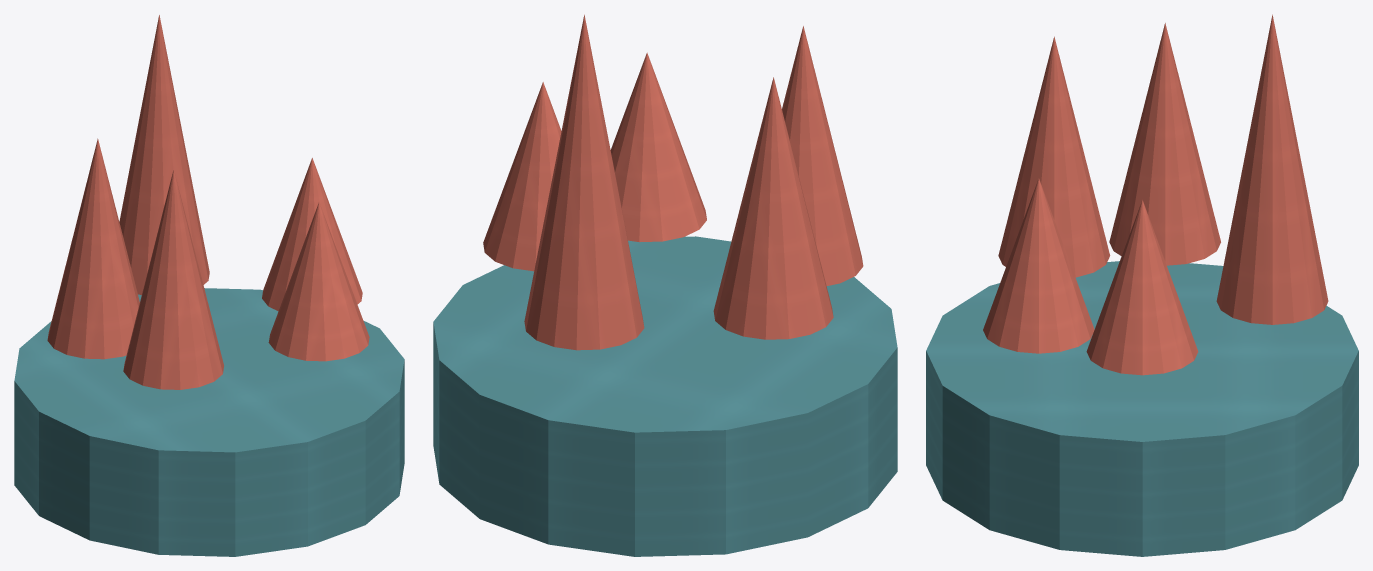
The model's file is atlas100-s071-a12.glb.
3 renders of one model, left to right at view 1: azimuth 30°, elevation 25°; view 2: azimuth 150°, elevation 25°; view 3: azimuth 270°, elevation 25°, orthographic. The views are drawn at different scales.
Visible parts, largest first — view 1: atlas100-s071-a12:part-000, atlas100-s071-a12:part-002, atlas100-s071-a12:part-005, atlas100-s071-a12:part-003, atlas100-s071-a12:part-004, atlas100-s071-a12:part-001; view 2: atlas100-s071-a12:part-000, atlas100-s071-a12:part-003, atlas100-s071-a12:part-005, atlas100-s071-a12:part-004, atlas100-s071-a12:part-002, atlas100-s071-a12:part-001; view 3: atlas100-s071-a12:part-000, atlas100-s071-a12:part-003, atlas100-s071-a12:part-005, atlas100-s071-a12:part-002, atlas100-s071-a12:part-001, atlas100-s071-a12:part-004.
Part boxes in pixels (x1=…): atlas100-s071-a12:part-000: x1=14, y1=288, x2=404, y2=556; atlas100-s071-a12:part-002: x1=123, y1=169, x2=223, y2=389; atlas100-s071-a12:part-005: x1=47, y1=138, x2=139, y2=359; atlas100-s071-a12:part-003: x1=119, y1=15, x2=209, y2=294; atlas100-s071-a12:part-004: x1=268, y1=202, x2=369, y2=361; atlas100-s071-a12:part-001: x1=262, y1=158, x2=362, y2=311; atlas100-s071-a12:part-000: x1=433, y1=236, x2=897, y2=556; atlas100-s071-a12:part-003: x1=524, y1=14, x2=644, y2=350; atlas100-s071-a12:part-005: x1=713, y1=77, x2=833, y2=339; atlas100-s071-a12:part-004: x1=610, y1=52, x2=706, y2=242; atlas100-s071-a12:part-002: x1=782, y1=26, x2=863, y2=285; atlas100-s071-a12:part-001: x1=483, y1=82, x2=561, y2=271; atlas100-s071-a12:part-000: x1=926, y1=261, x2=1358, y2=556; atlas100-s071-a12:part-003: x1=1216, y1=14, x2=1328, y2=324; atlas100-s071-a12:part-005: x1=1109, y1=23, x2=1220, y2=265; atlas100-s071-a12:part-002: x1=998, y1=36, x2=1110, y2=277; atlas100-s071-a12:part-001: x1=1086, y1=200, x2=1198, y2=375; atlas100-s071-a12:part-004: x1=983, y1=178, x2=1094, y2=353.
Bounding box in the file's own units: 1.16 × 1.35 × 1.16.
2 materials, 2 textured.
